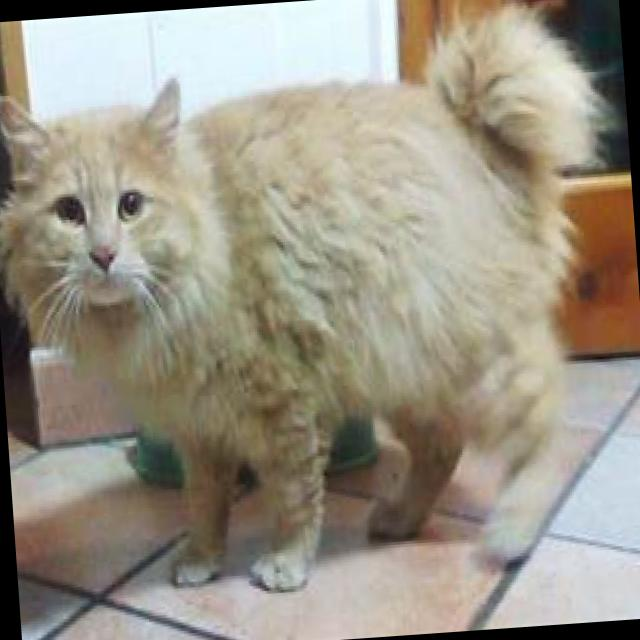animal: (0, 0, 640, 610)
